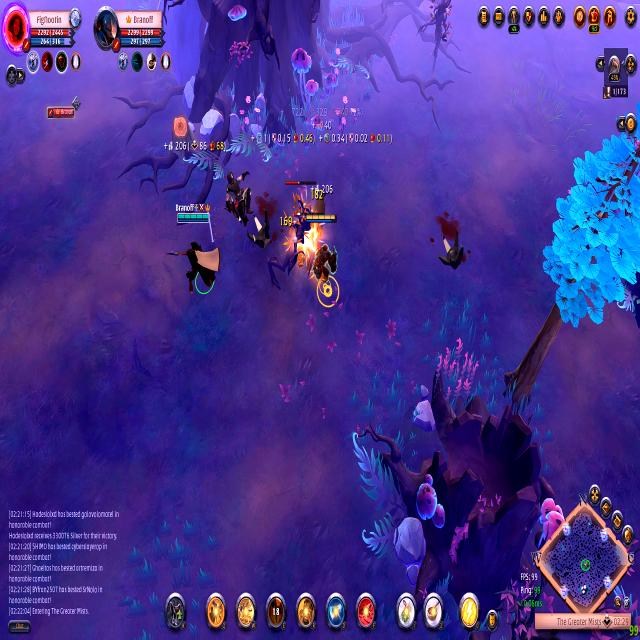ore: (266, 169, 324, 299), (412, 0, 458, 74)
red: (165, 196, 223, 322), (298, 204, 344, 316)
wisp caged: (495, 107, 640, 419)
